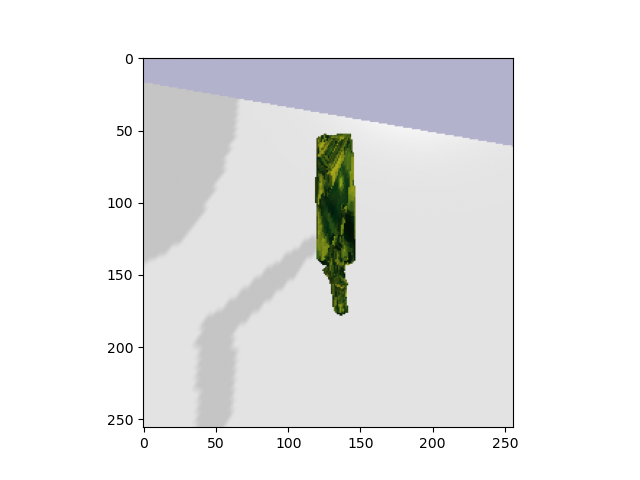v249b387_108: (306, 130, 373, 323)
